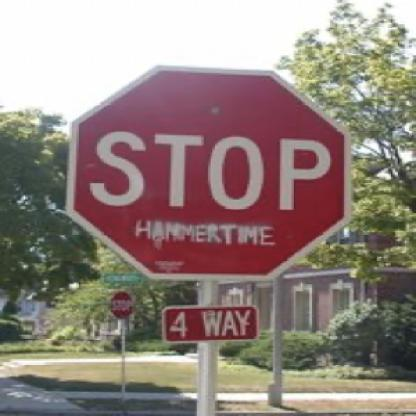stop: (55, 59, 354, 280)
